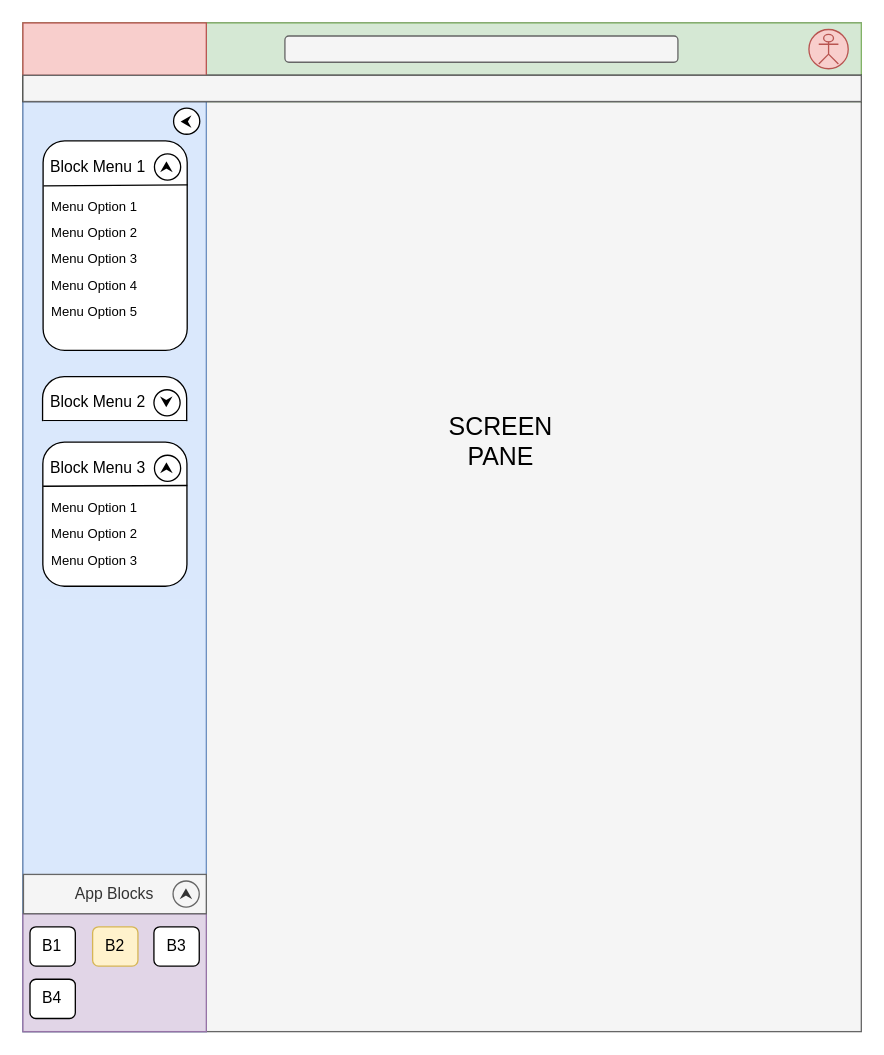
Image size: 884x1055. Some labels were removed from this diagram. The shapes that lost their labels are listed below. From the top down, each one's centre as x and y in pixels, then its label:
At point 114,48: "LOGO".
At point 481,48: "Global Search Bar".
At point 441,88: "Menu1 Menu2 Menu3 Menu4 ......".
